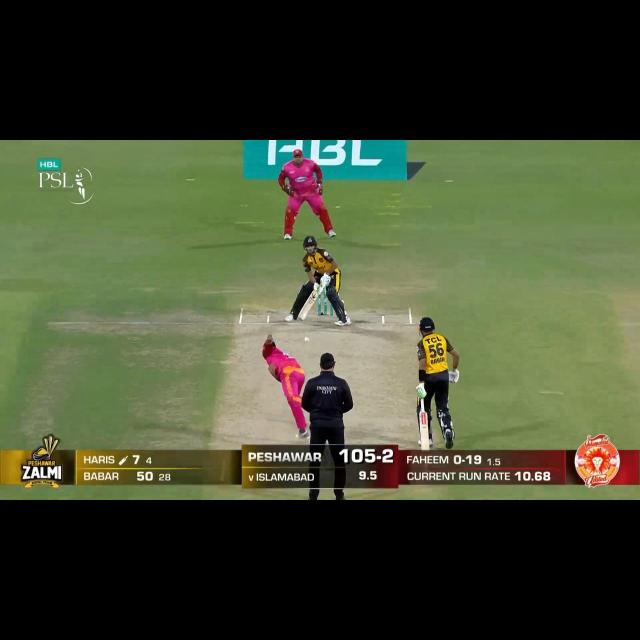bat: (298, 290, 320, 322), (418, 413, 431, 450)
toe: (298, 310, 306, 321), (421, 442, 432, 450)
